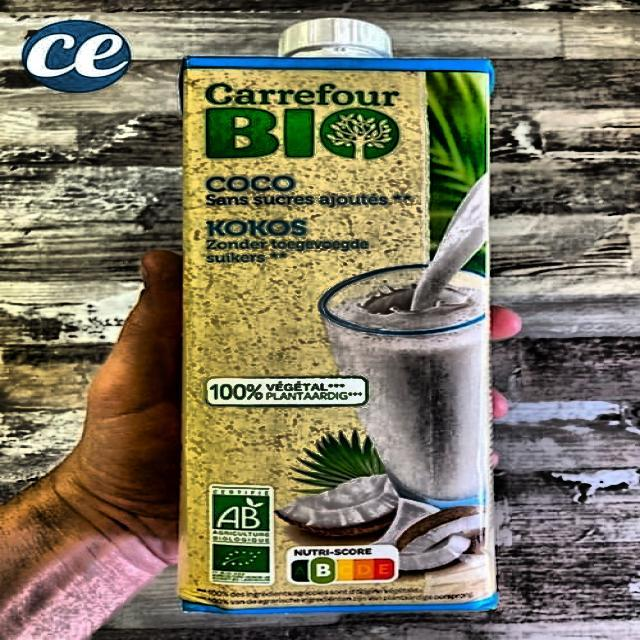cardboard: (175, 55, 497, 612)
